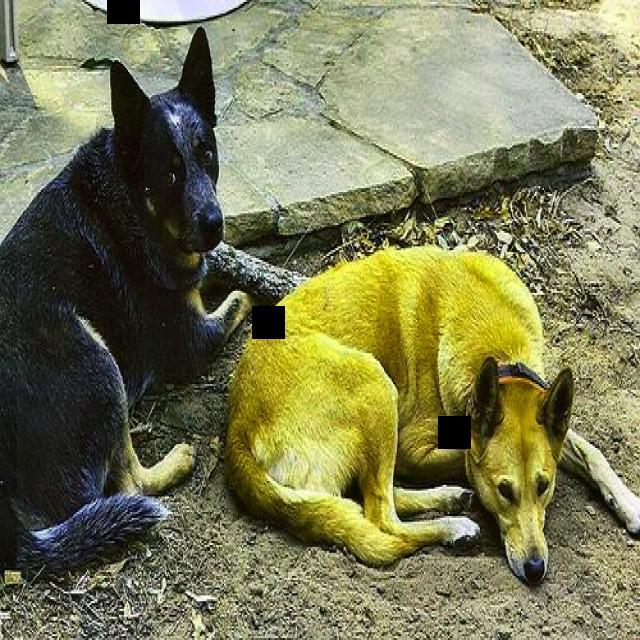adult_dog: (1, 22, 303, 581), (214, 245, 640, 586)
